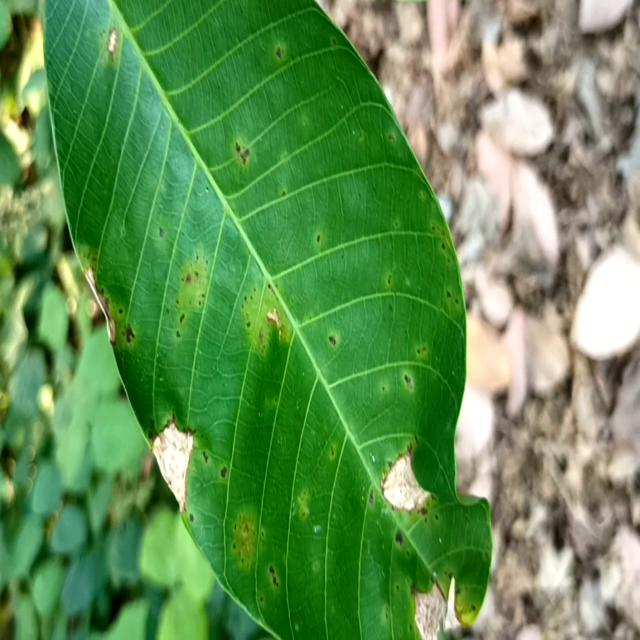Leaf-Blight: (152, 422, 193, 514), (414, 576, 460, 640), (382, 453, 430, 512), (82, 266, 116, 346)
